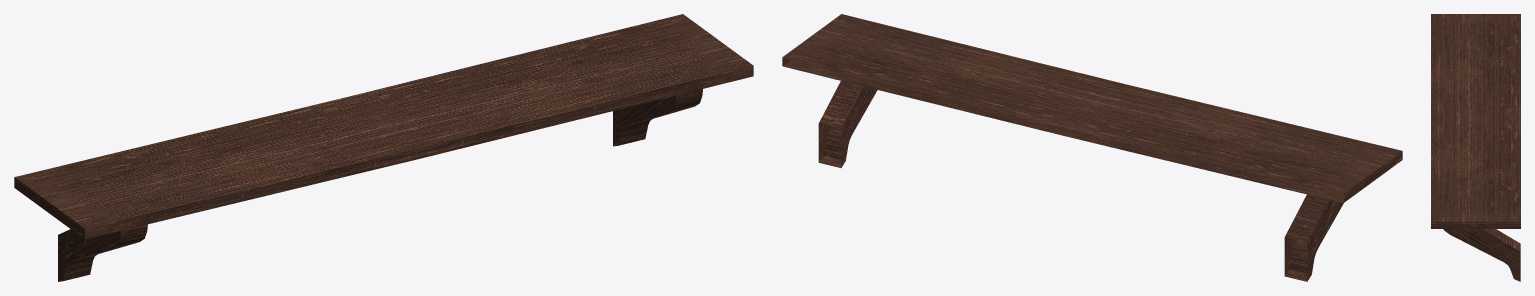
File: SM_Shelfl_a_001.fbx
3 renders of one model, left to right at view 1: azimuth 30°, elevation 25°; view 2: azimuth 150°, elevation 25°; view 3: azimuth 270°, elevation 25°, orthographic. The views are drawn at different scales.
Parts seen in each view (by area): view 1: SM_Shelfl_a_001; view 2: SM_Shelfl_a_001; view 3: SM_Shelfl_a_001.
Part boxes in pixels (bbox=[...]): SM_Shelfl_a_001: bbox=[14, 14, 753, 281]; SM_Shelfl_a_001: bbox=[782, 14, 1402, 281]; SM_Shelfl_a_001: bbox=[1431, 14, 1520, 281].
Bounding box in the file's own units: 169 × 27.81 × 30.81.
